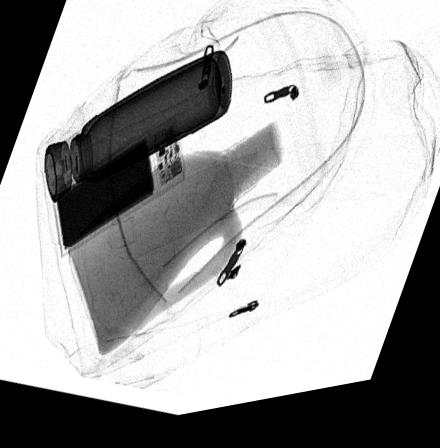Powerbank: (52, 118, 187, 261)
